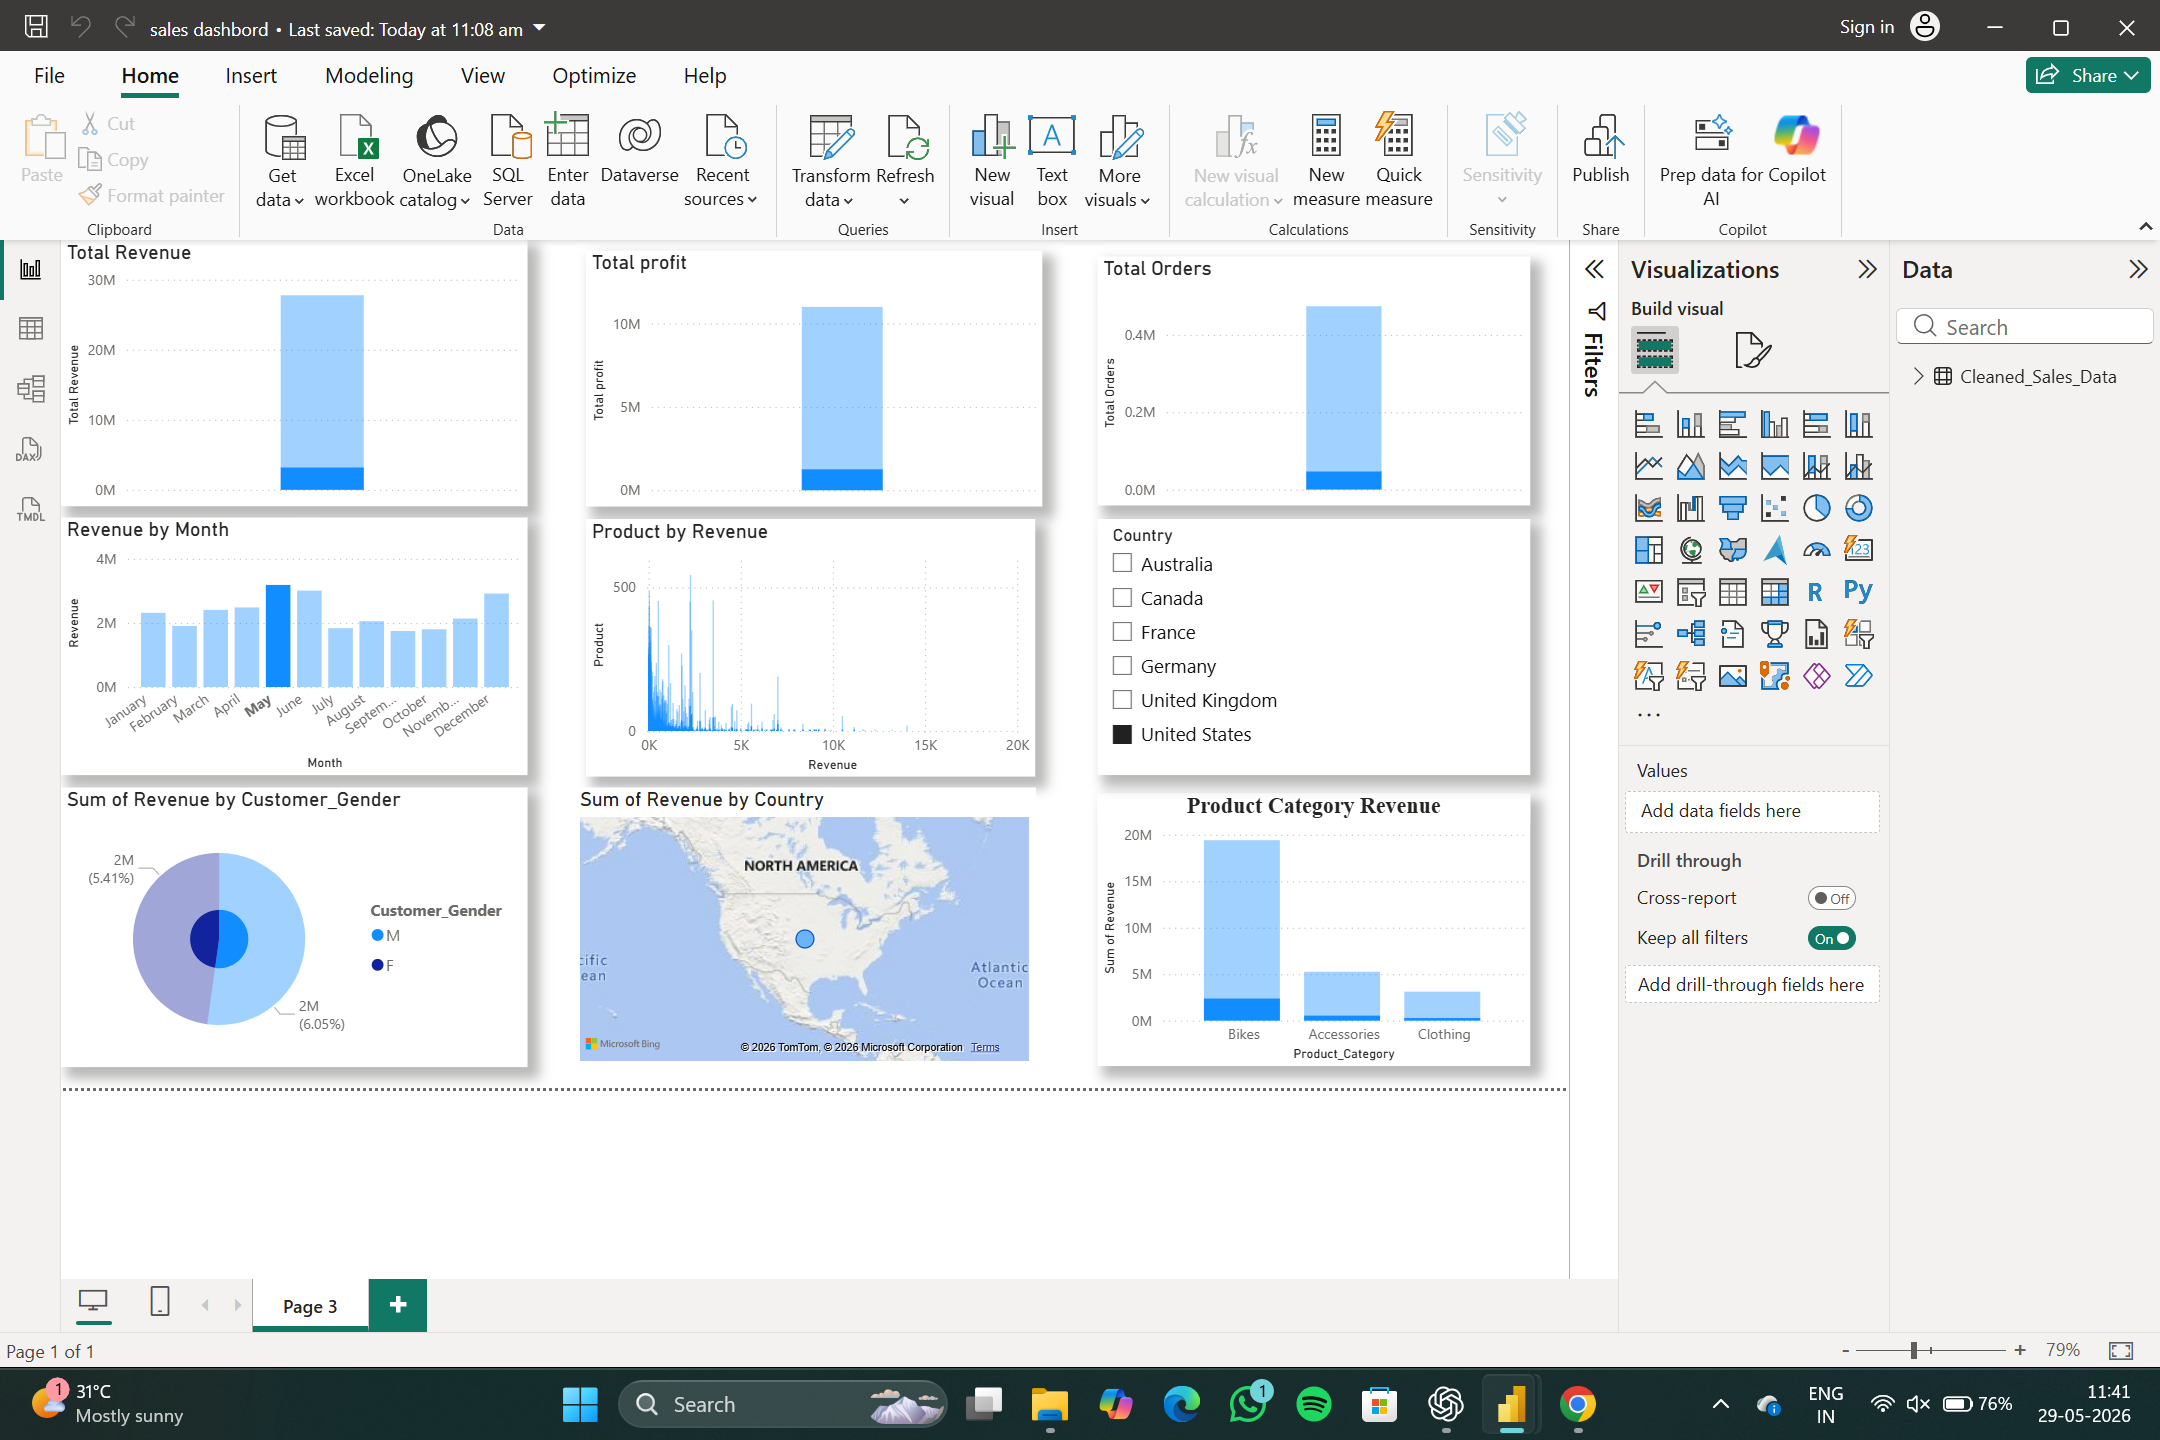

The dashboard page shown, as its layout file describes it:
{"tool":"powerbi","page":{"name":"Page 3","canvas":[1280,720],"ordinal":0},"visuals":[{"type":"clusteredColumnChart","fields":{"Y":["Sum(Cleaned_Sales_Data.Revenue)"]},"box":[0,0,395.7,225.7],"z":0},{"type":"clusteredColumnChart","fields":{"Y":["Sum(Cleaned_Sales_Data.Profit)"]},"box":[445.7,8.6,387.1,217.1],"z":1},{"type":"clusteredColumnChart","fields":{"Y":["Sum(Cleaned_Sales_Data.Order_Quantity)"]},"box":[880,14.3,367.1,211.4],"z":2},{"type":"lineStackedColumnComboChart","fields":{"Category":["Cleaned_Sales_Data.Date.Variation.Date Hierarchy.Month"],"Y":["Sum(Cleaned_Sales_Data.Revenue)"]},"box":[0,235.7,395.7,218.6],"z":3},{"type":"clusteredColumnChart","fields":{"Category":["Cleaned_Sales_Data.Revenue"],"Y":["CountNonNull(Cleaned_Sales_Data.Product)"]},"box":[445.7,237.1,381.4,218.6],"z":4},{"type":"pieChart","fields":{"Category":["Cleaned_Sales_Data.Customer_Gender"],"Y":["Sum(Cleaned_Sales_Data.Revenue)"]},"box":[0,464.3,395.7,237.1],"z":5},{"type":"map","fields":{"Category":["Cleaned_Sales_Data.Country"],"Size":["Sum(Cleaned_Sales_Data.Revenue)"]},"box":[435.7,464.3,391.4,237.1],"z":6},{"type":"clusteredColumnChart","title":"Product Category Revenue","fields":{"Category":["Cleaned_Sales_Data.Product_Category"],"Y":["Sum(Cleaned_Sales_Data.Revenue)"]},"box":[880,470,367.1,231.4],"z":7},{"type":"slicer","fields":{"Values":["Cleaned_Sales_Data.Country"]},"box":[880,237.1,367.1,217.1],"z":8}]}

Visuals, with their boxes on the page's 1280x720 design canvas (x1, y1, x2, y2). These are canvas units, not pixel positions in the 2160x1440 screenshot, which may show the page scaled, cropped or inside an application window:
clusteredColumnChart - Sum(Cleaned_Sales_Data.Revenue): BBox(0, 0, 396, 226)
clusteredColumnChart - Sum(Cleaned_Sales_Data.Profit): BBox(446, 9, 833, 226)
clusteredColumnChart - Sum(Cleaned_Sales_Data.Order_Quantity): BBox(880, 14, 1247, 226)
lineStackedColumnComboChart - Cleaned_Sales_Data.Date.Variation.Date Hierarchy.Month x Sum(Cleaned_Sales_Data.Revenue): BBox(0, 236, 396, 454)
clusteredColumnChart - Cleaned_Sales_Data.Revenue x CountNonNull(Cleaned_Sales_Data.Product): BBox(446, 237, 827, 456)
pieChart - Cleaned_Sales_Data.Customer_Gender x Sum(Cleaned_Sales_Data.Revenue): BBox(0, 464, 396, 701)
map - Cleaned_Sales_Data.Country x Sum(Cleaned_Sales_Data.Revenue): BBox(436, 464, 827, 701)
"Product Category Revenue" clusteredColumnChart: BBox(880, 470, 1247, 701)
slicer - Cleaned_Sales_Data.Country: BBox(880, 237, 1247, 454)
